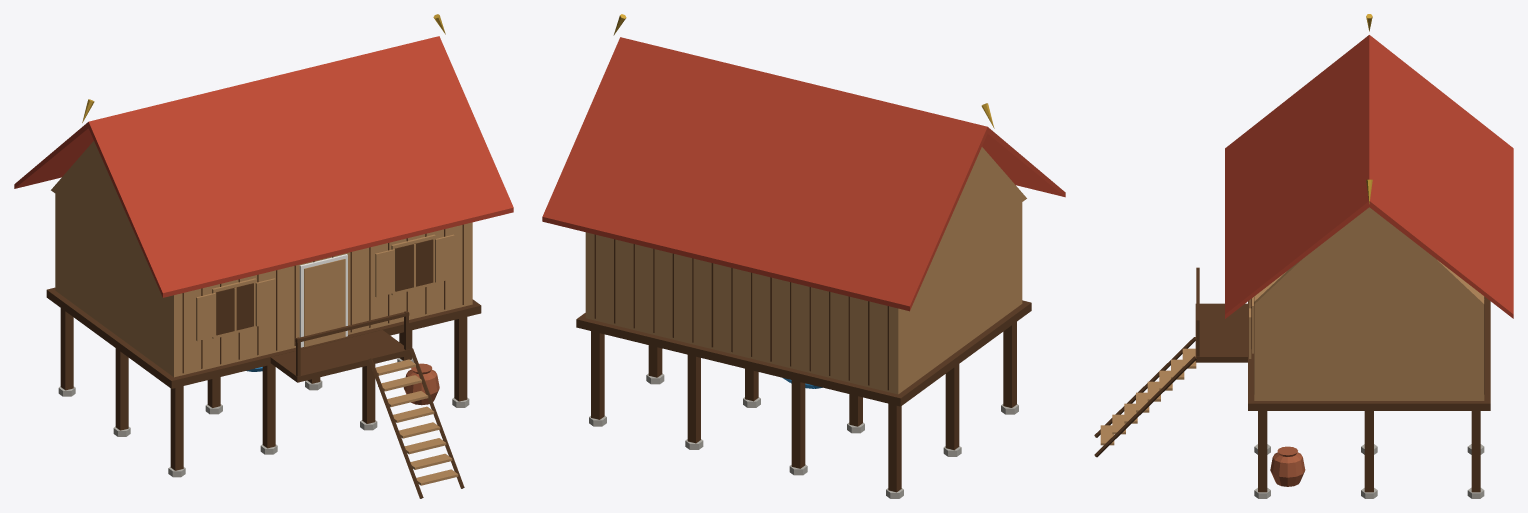
The model's file is BLD_StiltHouse_B.fbx.
3 views of the same model, side by side, from view 1: azimuth 30°, elevation 25°; view 2: azimuth 150°, elevation 25°; view 3: azimuth 270°, elevation 25° (orthographic). The views are drawn at different scales.
Visible parts, largest first — view 1: BLD_StiltHouse_B; view 2: BLD_StiltHouse_B; view 3: BLD_StiltHouse_B.
Boxes of the visible parts, x1,y1,x2,y2 form: BLD_StiltHouse_B: (14,14,513,498); BLD_StiltHouse_B: (542,14,1065,498); BLD_StiltHouse_B: (1094,14,1513,498).
Size of the model in its own units: 9.75 by 8.79 by 10.03.
